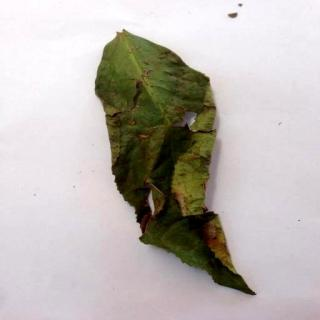Algal Leaf: (98, 29, 258, 299)
